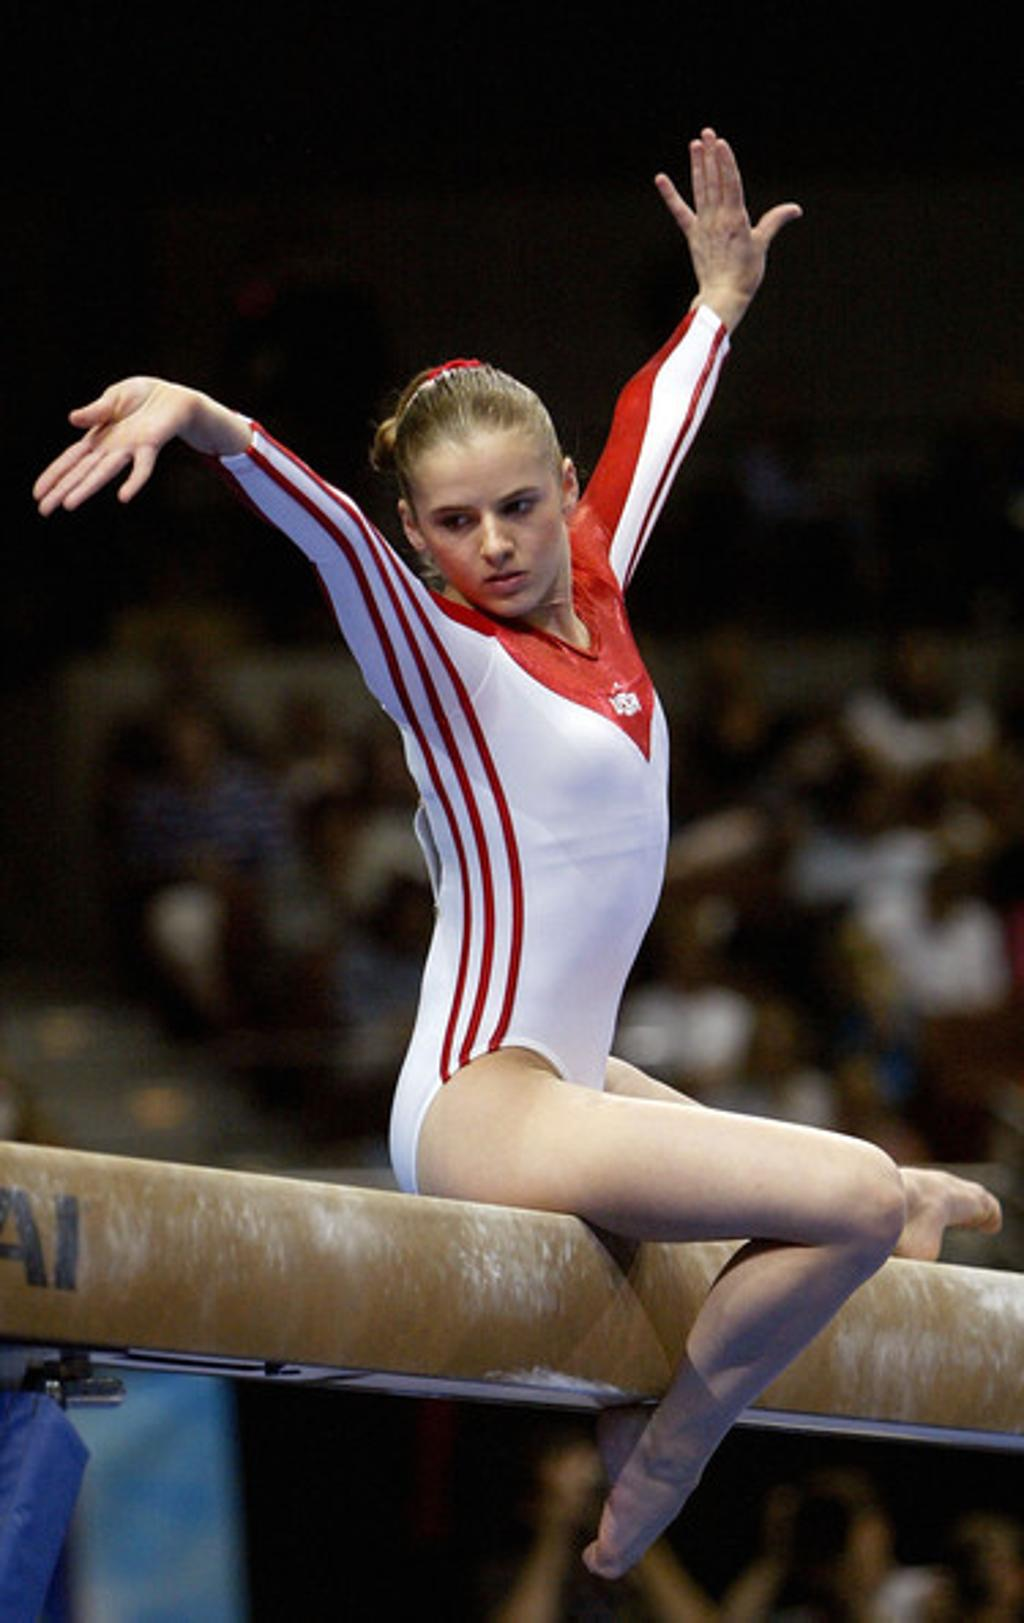face: (407, 419, 553, 622)
